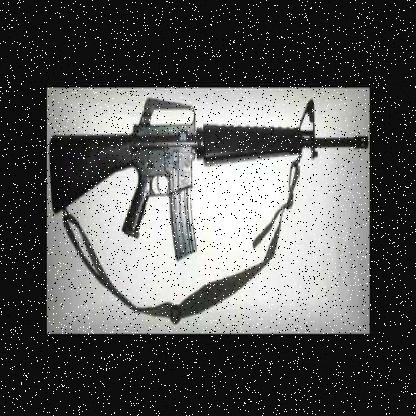rifle: (49, 90, 368, 245)
